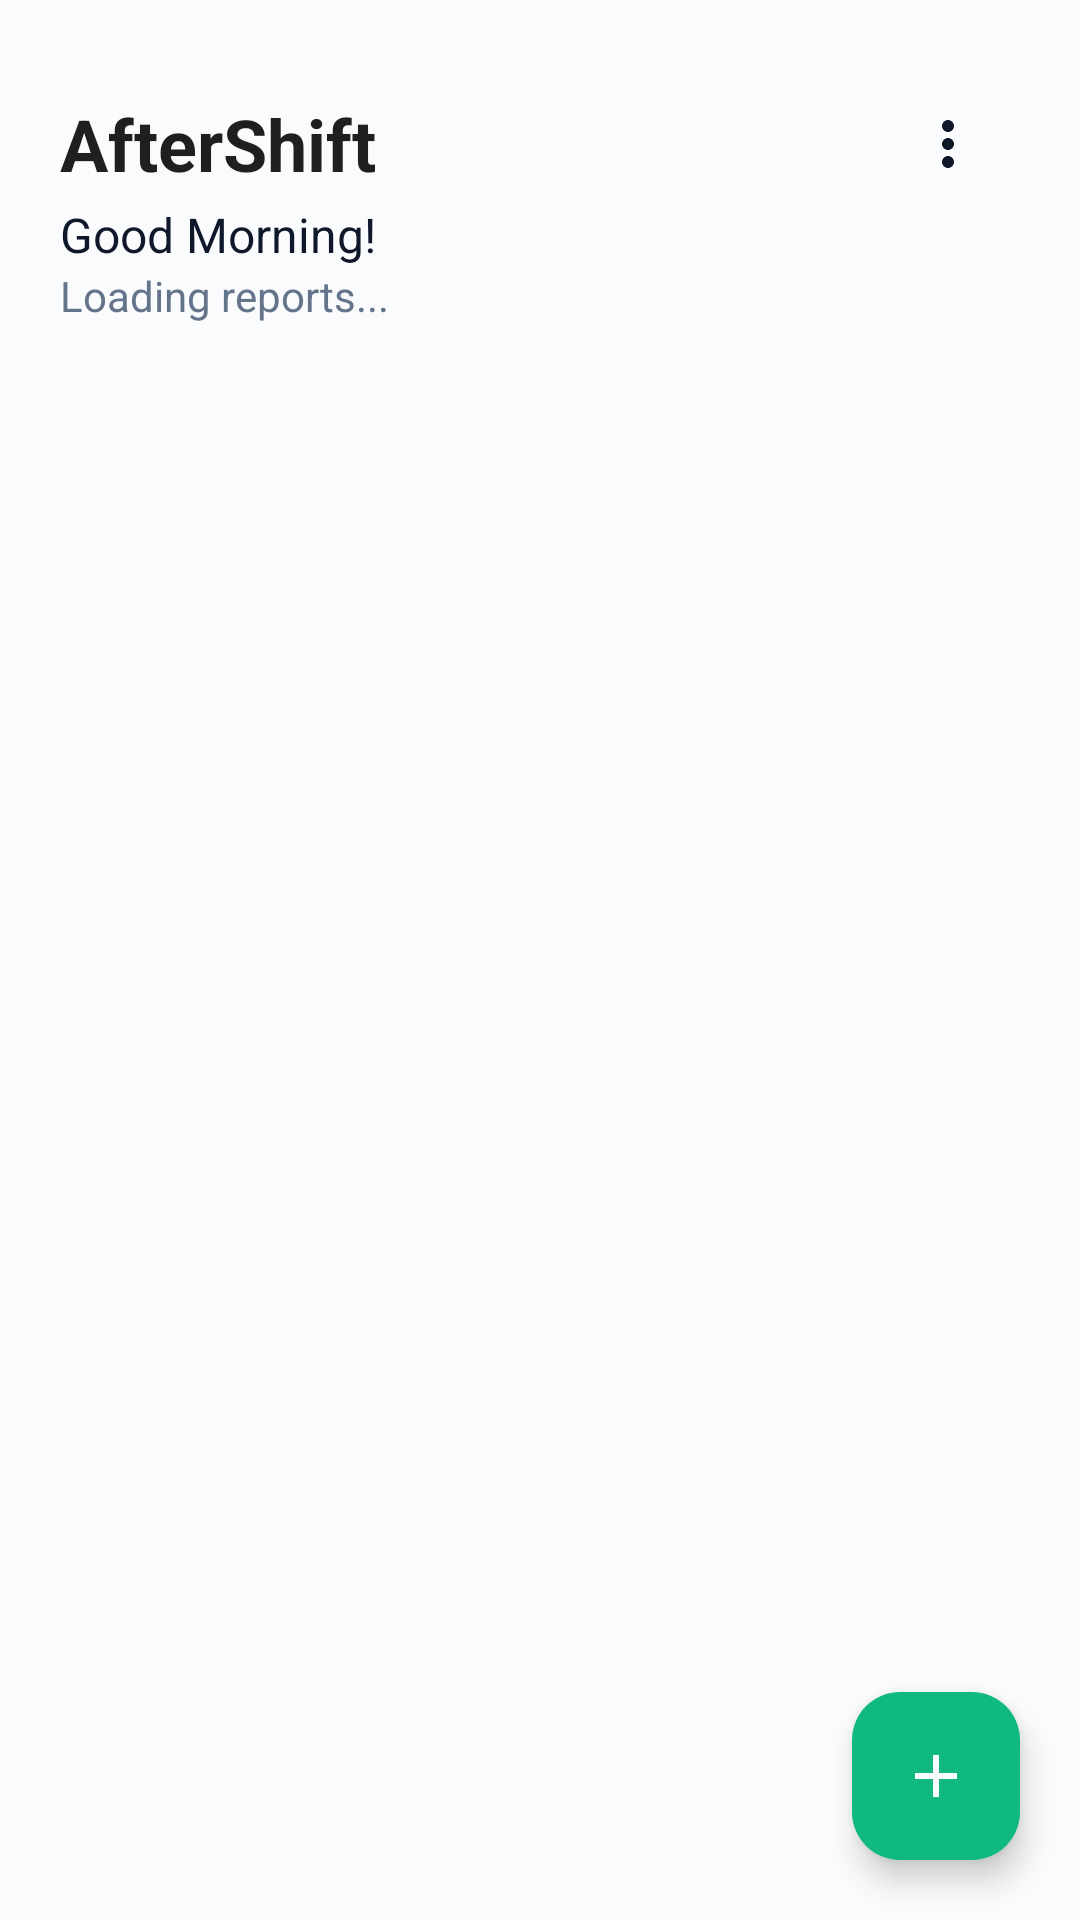

Where icons sit on this 1080*1920 app screen, as (x1, y1, x2, y2):
add: (852, 1692, 1020, 1860)
Menu: (942, 120, 954, 168)
